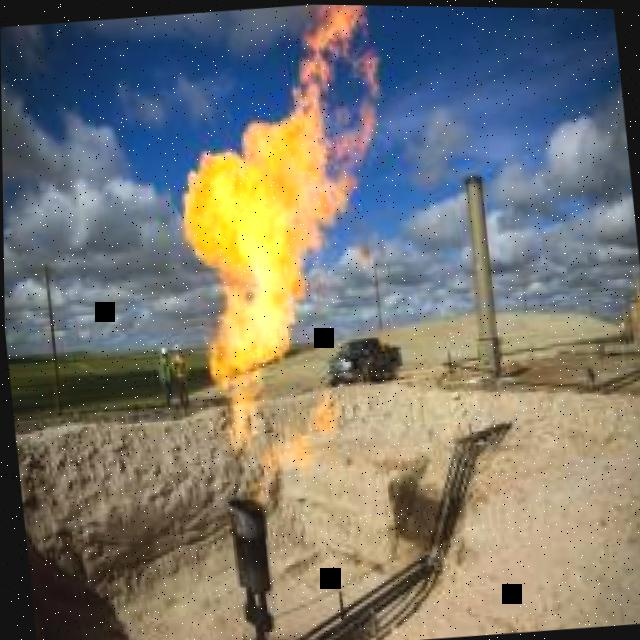fire: (180, 4, 381, 448), (256, 387, 340, 499)
